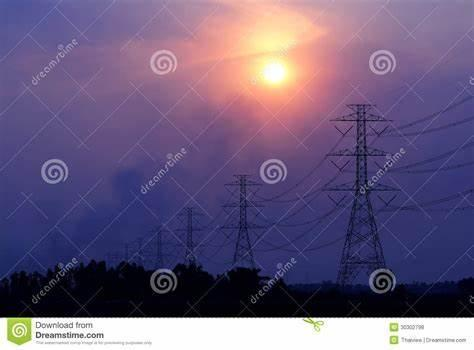power_tower: (322, 102, 406, 291), (218, 171, 272, 280), (173, 202, 209, 271)
